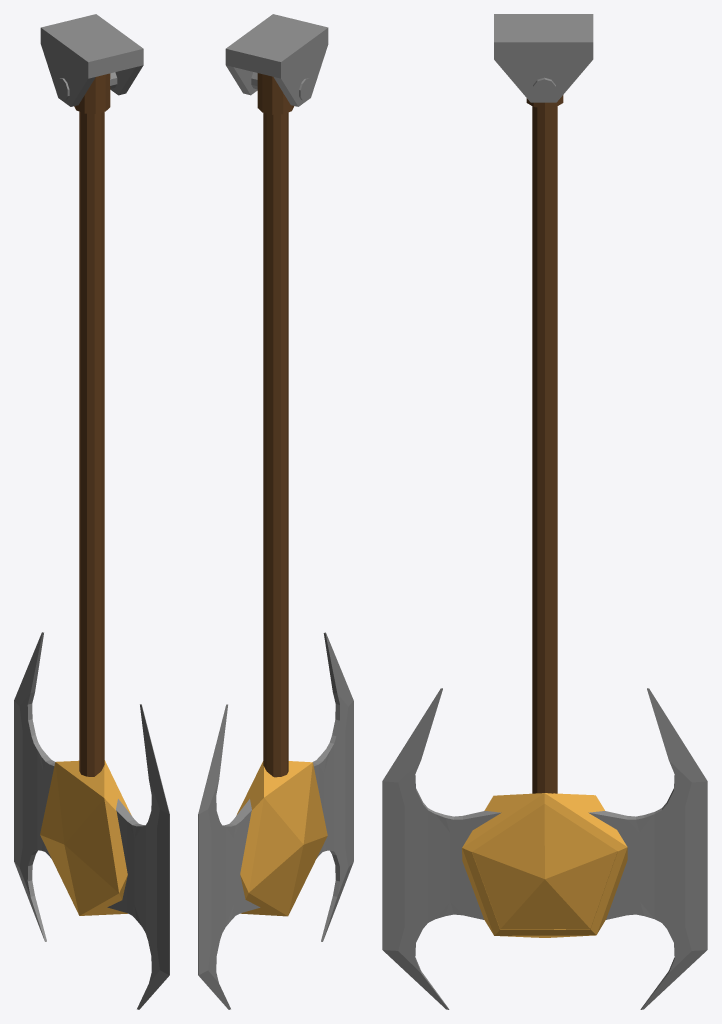
The model's file is trap_axe (1).fbx.
3 views of the same model, side by side, from view 1: azimuth 30°, elevation 25°; view 2: azimuth 150°, elevation 25°; view 3: azimuth 270°, elevation 25° (orthographic). The views are drawn at different scales.
Parts seen in each view (by area): view 1: Cube.007, Cube.008; view 2: Cube.007, Cube.008; view 3: Cube.007, Cube.008.
Part boxes in pixels (x1,y1,x2,y2): Cube.007: (14, 73, 169, 1009); Cube.008: (40, 14, 143, 106); Cube.007: (198, 73, 353, 1009); Cube.008: (225, 14, 328, 106); Cube.007: (382, 95, 707, 1009); Cube.008: (494, 14, 593, 102).
Size of the model in its own units: 23.82 by 353 by 106.
